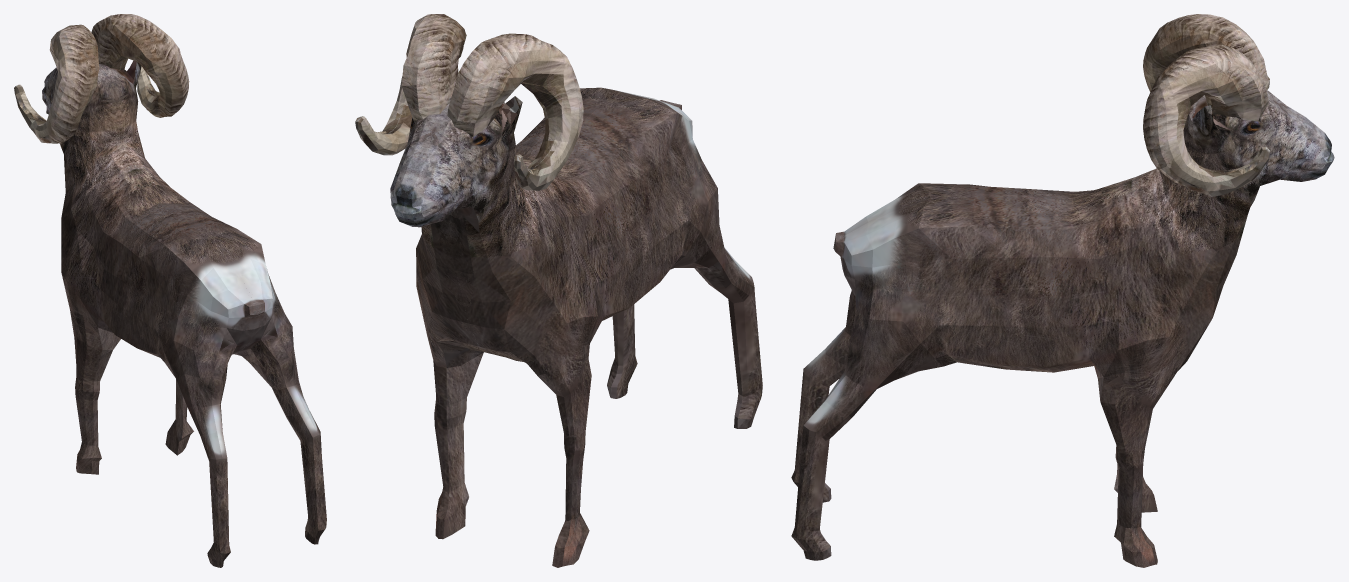
File: bighorn.fbx
The picture shows the model from 3 angles, left to right: view 1: azimuth 30°, elevation 25°; view 2: azimuth 150°, elevation 25°; view 3: azimuth 270°, elevation 25°; orthographic projection. The views are drawn at different scales.
Parts seen in each view (by area): view 1: Plane, Plane.001; view 2: Plane, Plane.001; view 3: Plane, Plane.001.
Boxes of the visible parts, x1,y1,x2,y2 form: Plane: (42,60,326,567); Plane.001: (14,14,189,143); Plane: (390,87,762,567); Plane.001: (355,14,583,190); Plane: (791,90,1334,567); Plane.001: (1143,14,1269,196).
Bounding box in the file's own units: 149 × 440 × 431.
2 materials, 2 textured.
